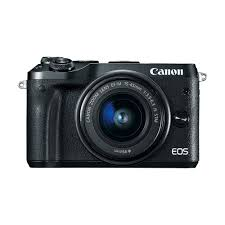camera: (27, 58, 198, 165)
